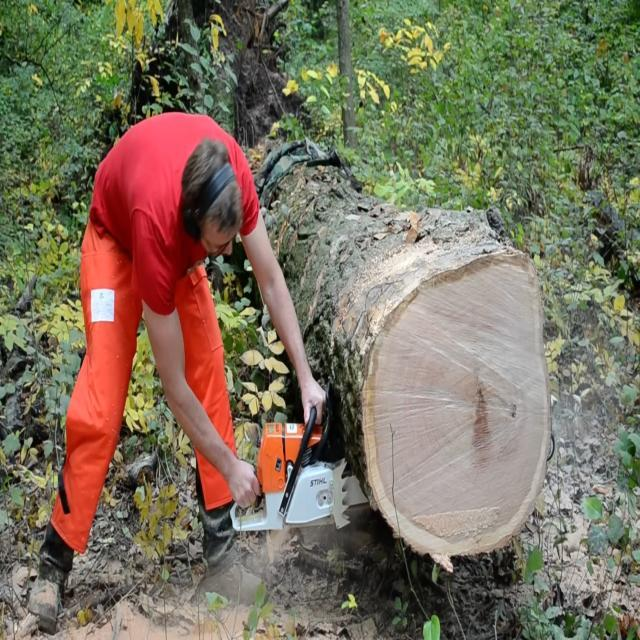Chainsaw: (205, 397, 375, 548)
